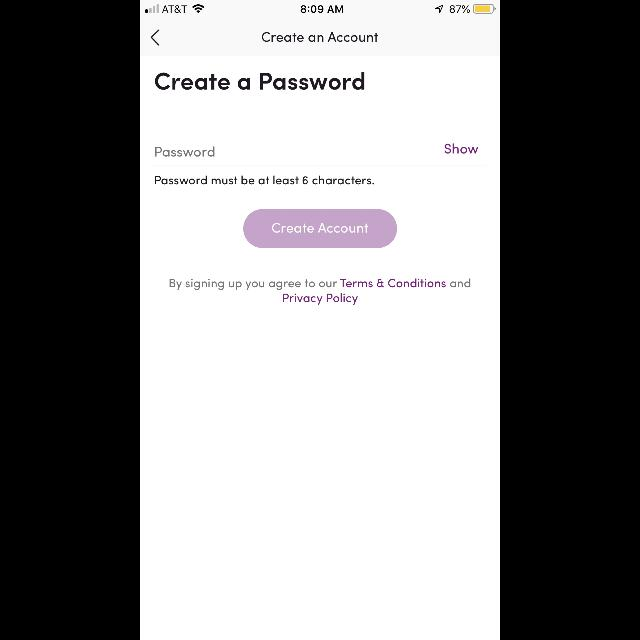icon: (150, 30, 160, 46)
input: (154, 144, 486, 166)
text: (170, 278, 470, 306), (156, 72, 364, 90), (156, 176, 374, 184), (262, 32, 378, 42), (155, 147, 215, 157), (444, 144, 478, 154)
textbutton: (243, 210, 397, 248)
uppertaskbar: (140, 0, 500, 14)
